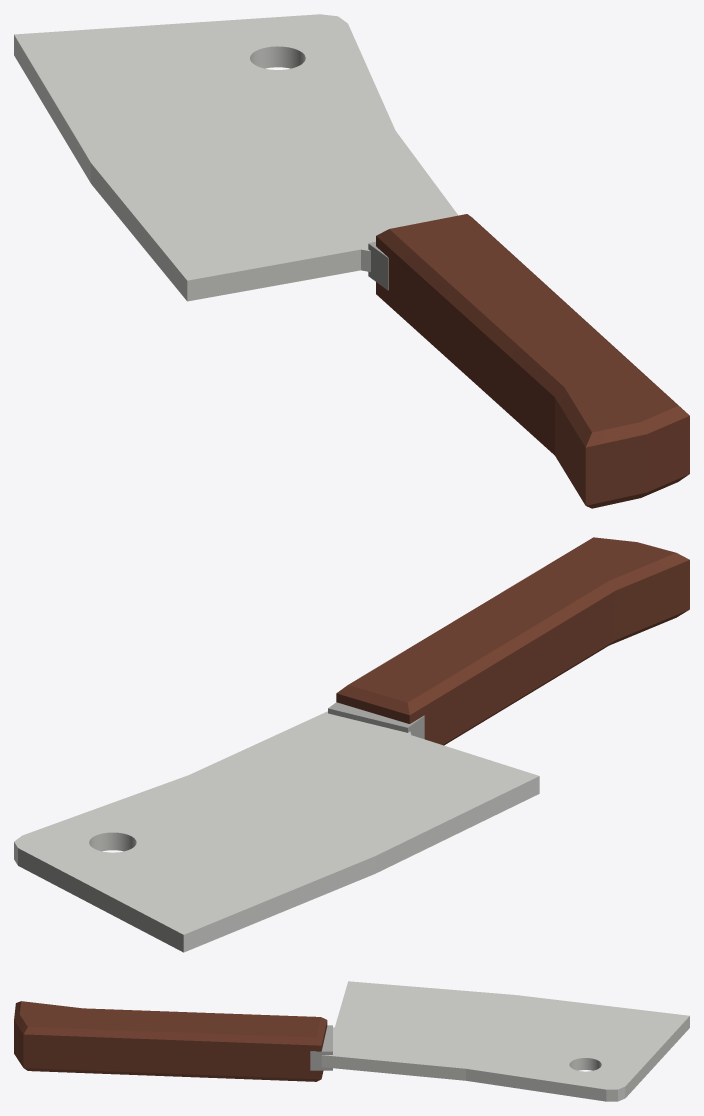
The picture shows the model from 3 angles, top to bottom: view 1: azimuth 30°, elevation 25°; view 2: azimuth 150°, elevation 25°; view 3: azimuth 270°, elevation 25°; orthographic projection. The views are drawn at different scales.
Visible parts, largest first — view 1: cleaver; view 2: cleaver; view 3: cleaver.
Part boxes in pixels (x1=…): cleaver: x1=14, y1=14, x2=689, y2=508; cleaver: x1=14, y1=537, x2=689, y2=952; cleaver: x1=14, y1=981, x2=689, y2=1101.
Size of the model in its own units: 0.135 by 0.0256 by 0.356.
